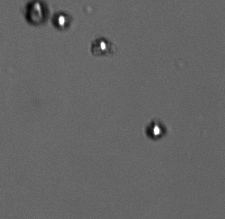Dead Cell: (25, 1, 46, 24)
Living Cell: (145, 118, 166, 138), (53, 10, 70, 30), (94, 37, 109, 54)
